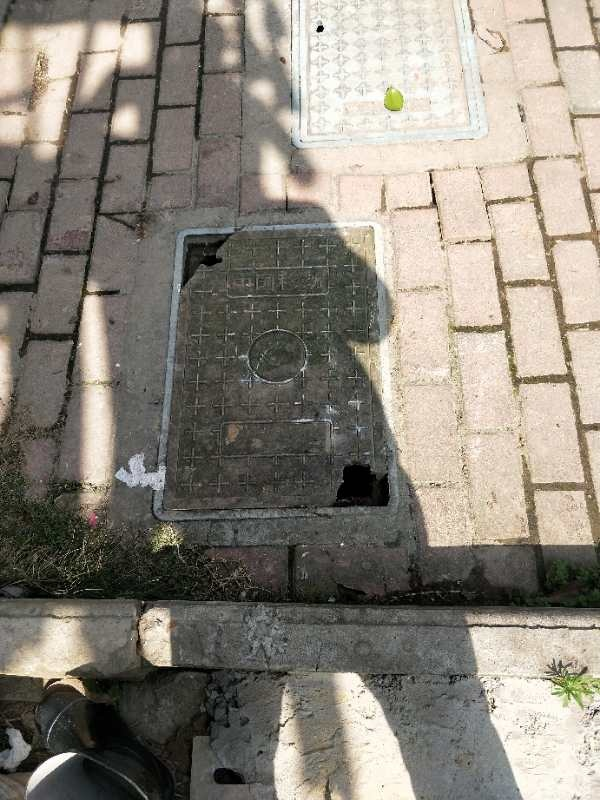broke: (174, 223, 393, 519)
